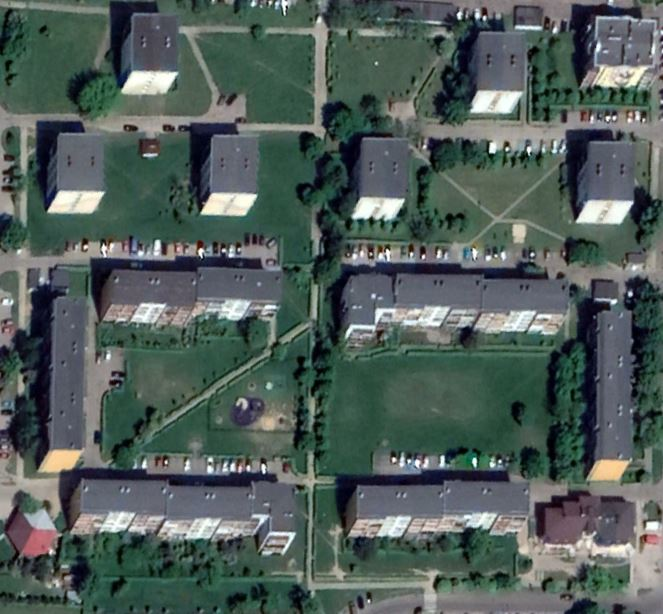block of flats: (67, 476, 301, 559), (339, 269, 574, 350), (339, 478, 533, 542), (97, 266, 286, 326), (33, 289, 90, 475), (580, 306, 637, 482), (573, 13, 661, 95), (194, 130, 263, 218), (346, 135, 415, 223), (572, 136, 638, 226), (465, 28, 531, 115), (116, 12, 183, 97), (42, 130, 108, 216)
family house: (535, 493, 642, 558)
